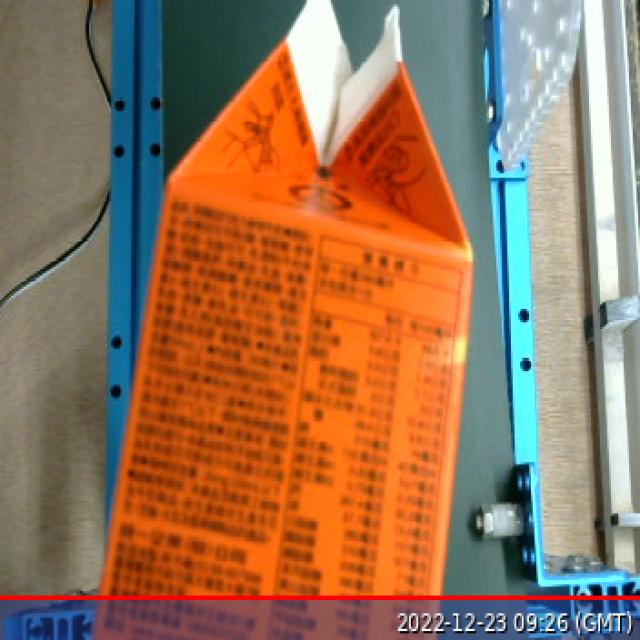non_white_jug: (69, 0, 494, 640)
